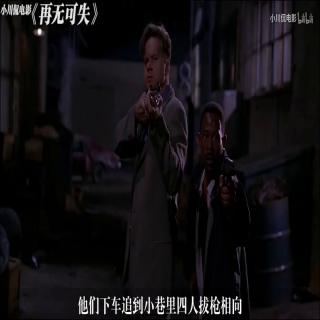gun: (215, 152, 238, 201), (140, 83, 165, 124)
